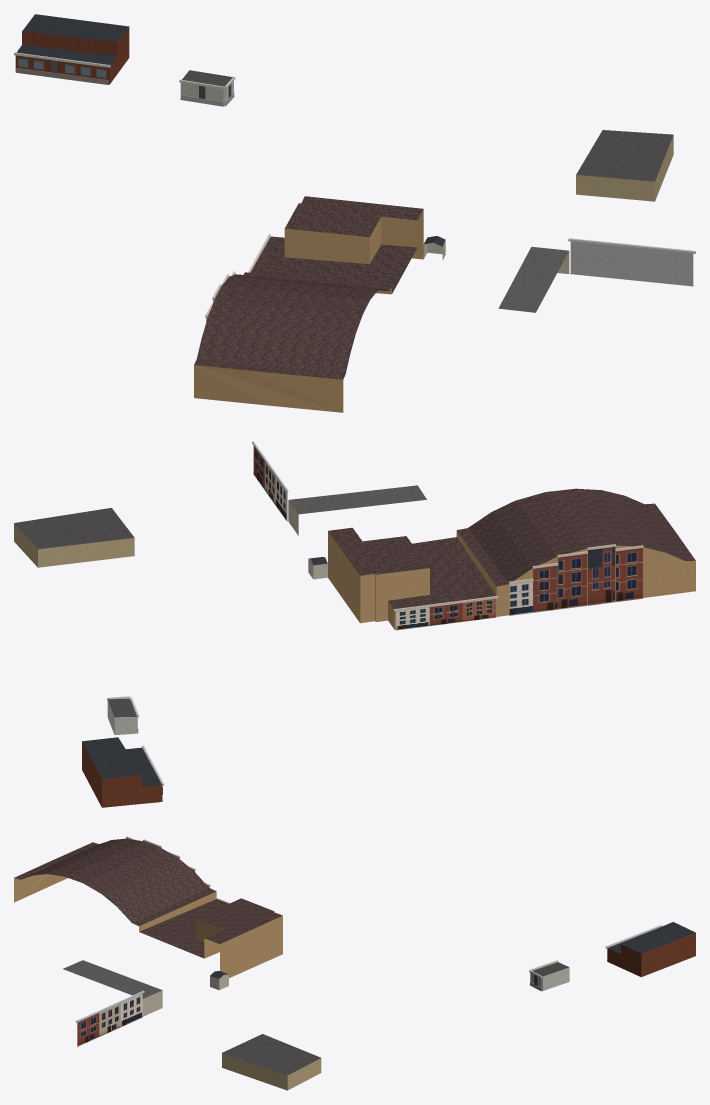
The picture shows the model from 3 angles, top to bottom: view 1: azimuth 30°, elevation 25°; view 2: azimuth 150°, elevation 25°; view 3: azimuth 270°, elevation 25°; orthographic projection. The views are drawn at different scales.
Visible parts, largest first — view 1: bldg_6006385048_roof, bldg_6006385048, bldg_6006416909_facade2, bldg_6000001103_roof, bldg_6004026587_roof, bldg_6006387836_roof, bldg_6000001103, bldg_6004026587, bldg_6004026587_facade0, bldg_6004026589_facade1; view 2: bldg_6006385048_roof, bldg_6006385048, bldg_6000001103_roof, bldg_6000001103, bldg_6006385048_facade7, bldg_6004026587_roof, bldg_6004026587, bldg_6006387836_roof, bldg_6006385048_facade4, bldg_6006385048_facade3, bldg_6006385048_facade2, bldg_6006416909_facade2 (+2 smaller); view 3: bldg_6006385048_roof, bldg_6006385048, bldg_6000001103_roof, bldg_6004026587, bldg_6006416909_facade2, bldg_6000001103, bldg_6006387836_roof, bldg_6004026587_roof, bldg_6004026589.
Part boxes in pixels (x1=…): bldg_6006385048_roof: x1=194, y1=196, x2=423, y2=379; bldg_6006385048: x1=194, y1=209, x2=423, y2=412; bldg_6006416909_facade2: x1=568, y1=238, x2=695, y2=286; bldg_6000001103_roof: x1=576, y1=130, x2=673, y2=181; bldg_6004026587_roof: x1=16, y1=14, x2=128, y2=64; bldg_6006387836_roof: x1=498, y1=246, x2=568, y2=312; bldg_6000001103: x1=576, y1=135, x2=673, y2=201; bldg_6004026587: x1=15, y1=27, x2=129, y2=84; bldg_6004026587_facade0: x1=14, y1=52, x2=110, y2=84; bldg_6004026589_facade1: x1=179, y1=79, x2=224, y2=106; bldg_6006385048_roof: x1=328, y1=488, x2=695, y2=608; bldg_6006385048: x1=328, y1=530, x2=695, y2=629; bldg_6000001103_roof: x1=14, y1=508, x2=134, y2=549; bldg_6000001103: x1=14, y1=523, x2=134, y2=567; bldg_6006385048_facade7: x1=394, y1=596, x2=498, y2=630; bldg_6004026587_roof: x1=82, y1=737, x2=161, y2=786; bldg_6004026587: x1=82, y1=741, x2=161, y2=807; bldg_6006387836_roof: x1=288, y1=485, x2=426, y2=514; bldg_6006385048_facade4: x1=557, y1=551, x2=587, y2=609; bldg_6006385048_facade3: x1=587, y1=544, x2=615, y2=605; bldg_6006385048_facade2: x1=615, y1=545, x2=643, y2=601; bldg_6006416909_facade2: x1=252, y1=441, x2=288, y2=521; bldg_6006385048_roof: x1=14, y1=838, x2=282, y2=958; bldg_6006385048: x1=14, y1=874, x2=282, y2=977; bldg_6000001103_roof: x1=222, y1=1034, x2=320, y2=1075; bldg_6004026587: x1=607, y1=933, x2=695, y2=977; bldg_6006416909_facade2: x1=76, y1=990, x2=144, y2=1046; bldg_6000001103: x1=222, y1=1053, x2=321, y2=1090; bldg_6006387836_roof: x1=63, y1=960, x2=162, y2=998; bldg_6004026587_roof: x1=607, y1=922, x2=695, y2=953; bldg_6004026589: x1=542, y1=967, x2=569, y2=990.
Bounding box in the file's own units: 120 × 11.82 × 155.
23 materials, 12 textured.
